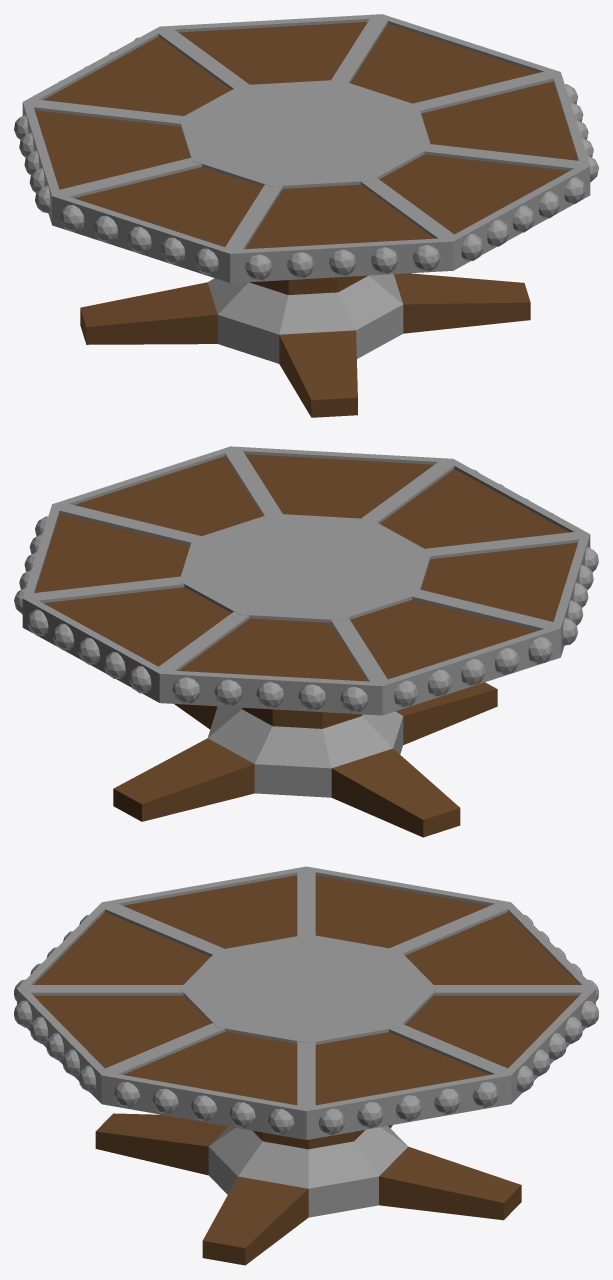
Rendered from Table.fbx.
3 views of the same model, one above another, from view 1: azimuth 30°, elevation 25°; view 2: azimuth 150°, elevation 25°; view 3: azimuth 270°, elevation 25° (orthographic).
Parts seen in each view (by area): view 1: table; view 2: table; view 3: table.
Boxes of the visible parts, x1=… form: table: x1=14, y1=14, x2=598, y2=417; table: x1=14, y1=446, x2=598, y2=837; table: x1=14, y1=866, x2=598, y2=1265.
Bounding box in the file's own units: 454 × 160 × 454.
